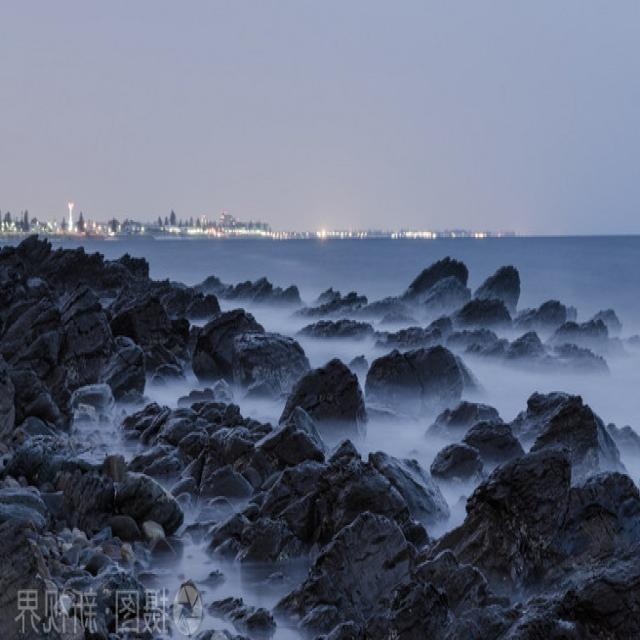reef: (292, 236, 588, 392)
